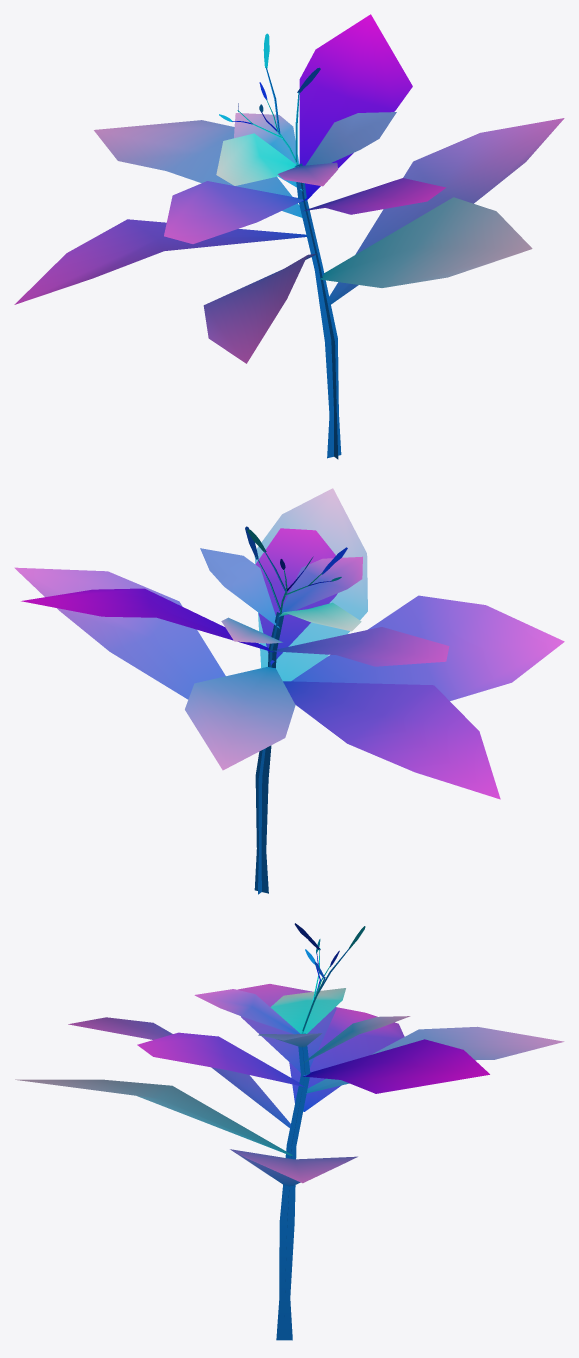
Rendered from xefmcgrqx_VarB_LOD0.fbx.
The picture shows the model from 3 angles, top to bottom: view 1: azimuth 30°, elevation 25°; view 2: azimuth 150°, elevation 25°; view 3: azimuth 270°, elevation 25°; orthographic projection.
Parts seen in each view (by area): view 1: _9q0v_VarB_LOD3; view 2: _9q0v_VarB_LOD3; view 3: _9q0v_VarB_LOD3.
Part boxes in pixels (x1,y1,x2,y2): _9q0v_VarB_LOD3: [14, 14, 564, 459]; _9q0v_VarB_LOD3: [14, 488, 564, 894]; _9q0v_VarB_LOD3: [15, 923, 564, 1340].
Bounding box in the file's own units: 39.16 × 28.82 × 35.88.
